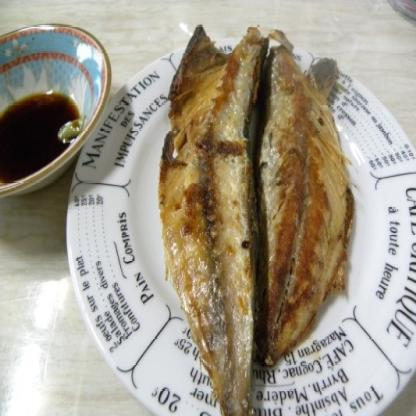Peixe: (106, 24, 374, 416)
